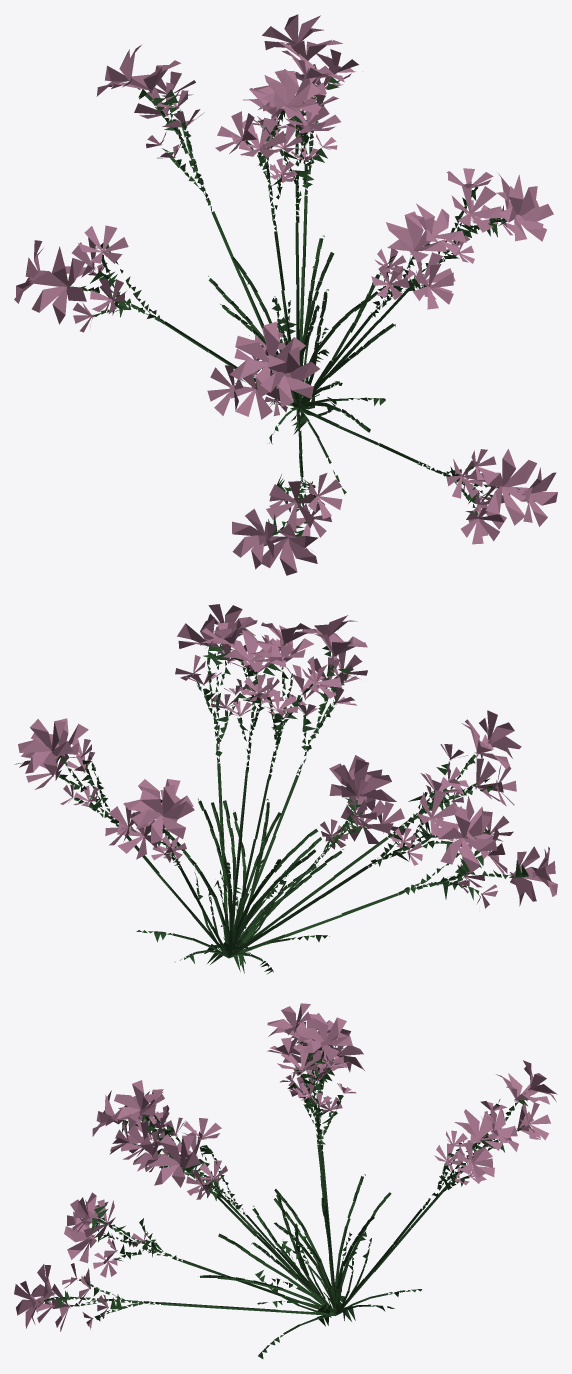
Rendered from plants1.obj.
3 views of the same model, one above another, from view 1: azimuth 30°, elevation 25°; view 2: azimuth 150°, elevation 25°; view 3: azimuth 270°, elevation 25° (orthographic). The views are drawn at different scales.
Parts seen in each view (by area): view 1: 1coreopsi; view 2: 1coreopsi; view 3: 1coreopsi.
Part boxes in pixels (<box>): 1coreopsi: <box>14,14,557,575</box>; 1coreopsi: <box>14,604,557,974</box>; 1coreopsi: <box>14,1003,557,1358</box>.
Bounding box in the file's own units: 733 × 667 × 972.
